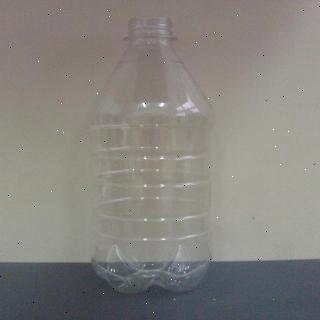Plastic-bottle: (80, 13, 224, 293)
